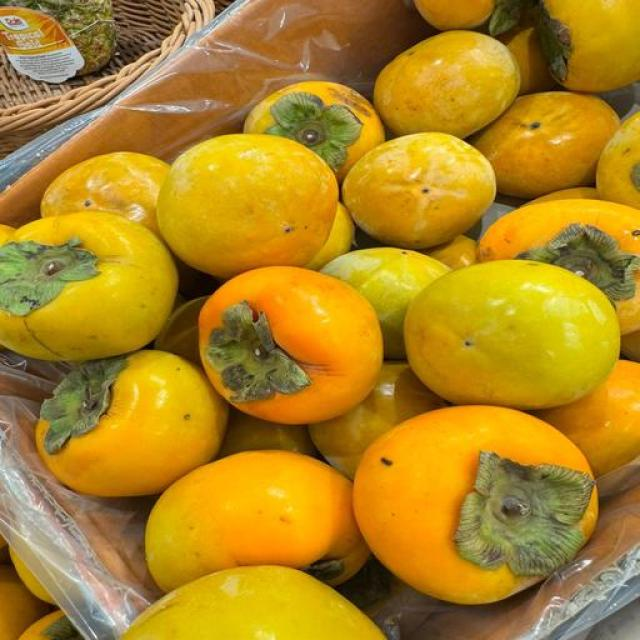organic: (0, 0, 640, 640), (454, 452, 594, 576), (207, 302, 311, 402), (0, 0, 116, 74), (40, 357, 126, 454), (0, 238, 99, 316), (265, 92, 362, 171), (43, 617, 82, 639)
